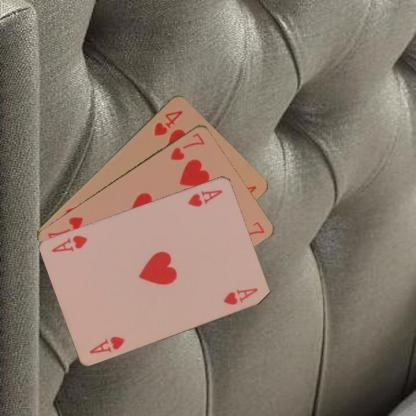4h: (151, 107, 184, 137)
7h: (168, 129, 206, 162)
Ah: (86, 333, 126, 355), (185, 187, 223, 208)
